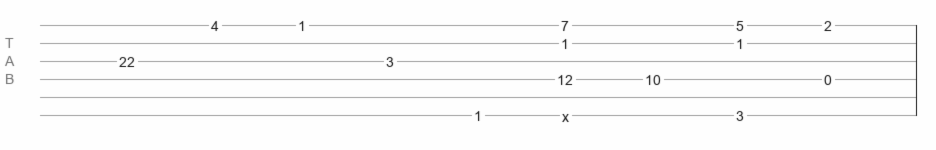0: (824, 72, 832, 82)
1: (298, 18, 306, 28), (474, 108, 482, 118), (561, 36, 569, 46), (736, 36, 744, 46)
10: (645, 72, 661, 82)
12: (557, 72, 573, 82)
2: (824, 18, 832, 28)
22: (119, 54, 135, 64)
3: (386, 54, 394, 64), (736, 108, 744, 118)
4: (211, 18, 219, 28)
5: (736, 18, 744, 28)
7: (561, 18, 569, 28)
x: (562, 109, 569, 117)
